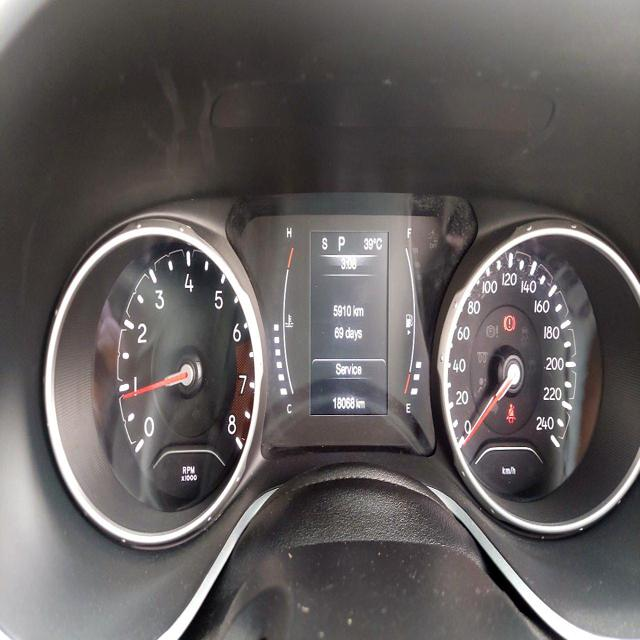odometer: (332, 394, 356, 411)
